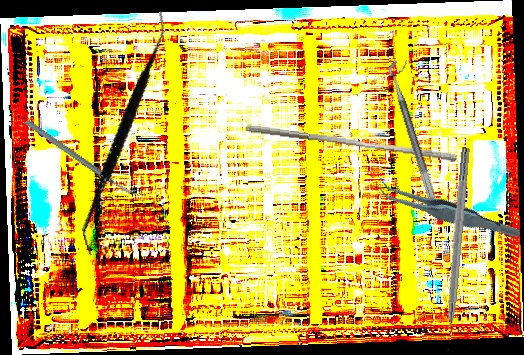Chopper: (23, 89, 139, 224)
Fixation Ring: (385, 56, 448, 201)
Hook Surgical: (441, 146, 471, 352)
Pusher: (243, 123, 459, 163)
Spatula Surgical: (40, 9, 211, 256)
Tissue Forceps: (372, 153, 523, 268)
